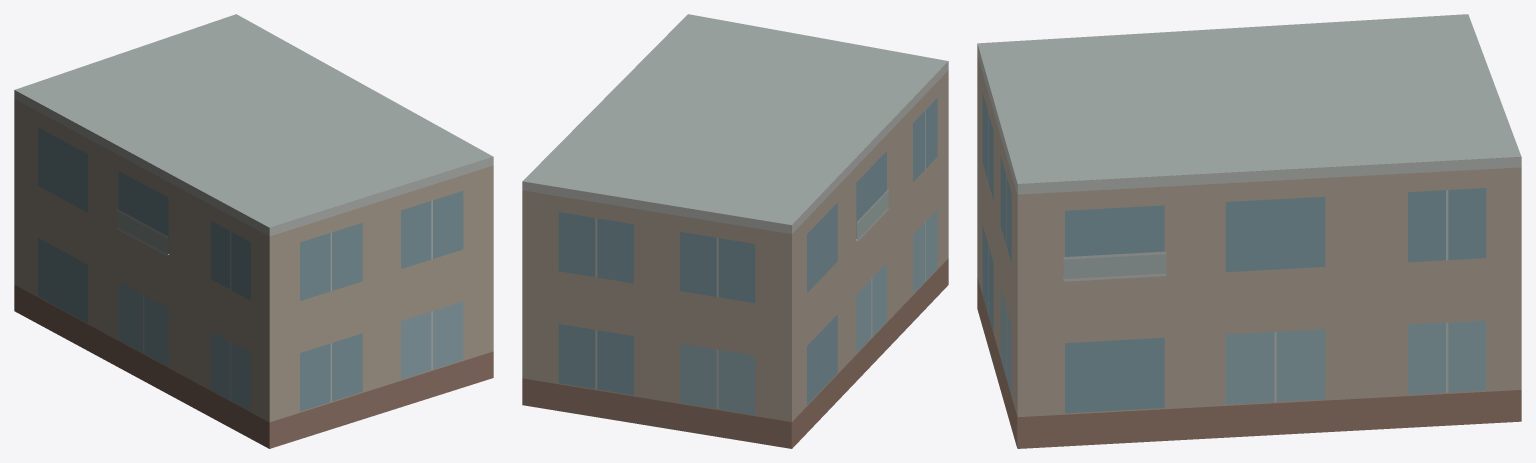
File: survey-upis-33008763.glb
3 renders of one model, left to right at view 1: azimuth 30°, elevation 25°; view 2: azimuth 150°, elevation 25°; view 3: azimuth 270°, elevation 25°, orthographic. The views are drawn at different scales.
Parts seen in each view (by area): view 1: survey-upis-33008763.tmp; view 2: survey-upis-33008763.tmp; view 3: survey-upis-33008763.tmp.
Part boxes in pixels (box(x1,y1,x2,y2)): survey-upis-33008763.tmp: box(14, 14, 493, 448); survey-upis-33008763.tmp: box(522, 14, 948, 448); survey-upis-33008763.tmp: box(977, 14, 1521, 448).
Size of the model in its own units: 8.41 by 6.1 by 11.37.
